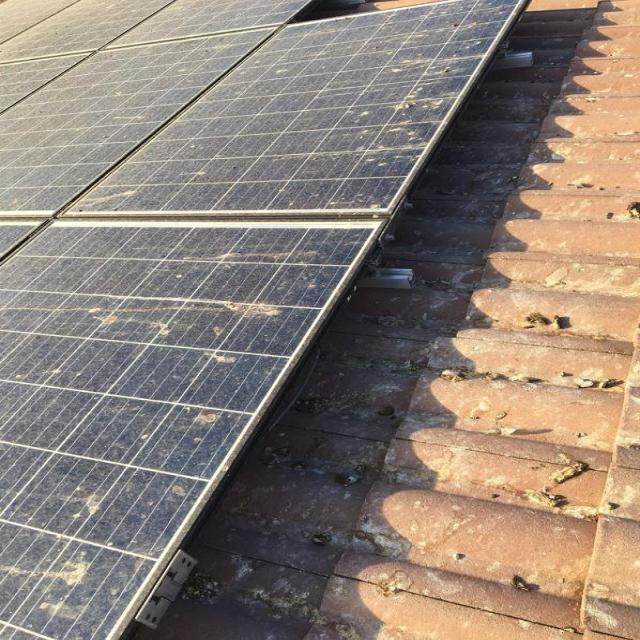soiled: (1, 223, 378, 640), (76, 1, 543, 218), (1, 34, 287, 217), (105, 0, 315, 50), (1, 0, 170, 58)
